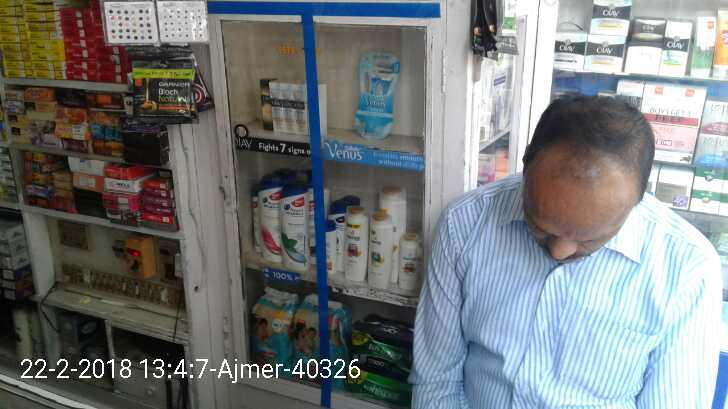venus: (357, 49, 399, 134)
